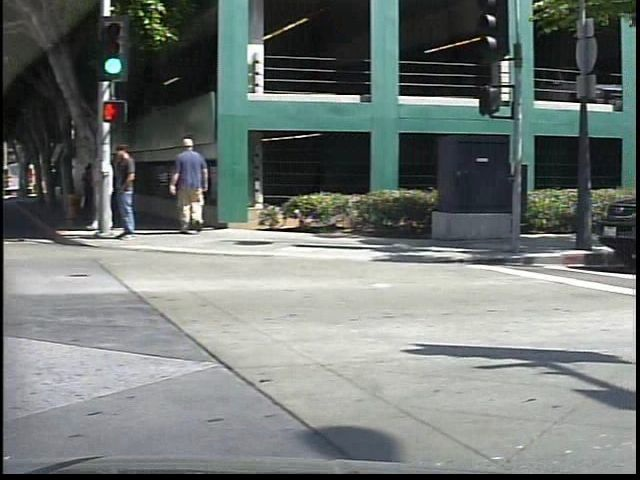person: (173, 135, 227, 236), (116, 140, 154, 246), (97, 145, 122, 232)
